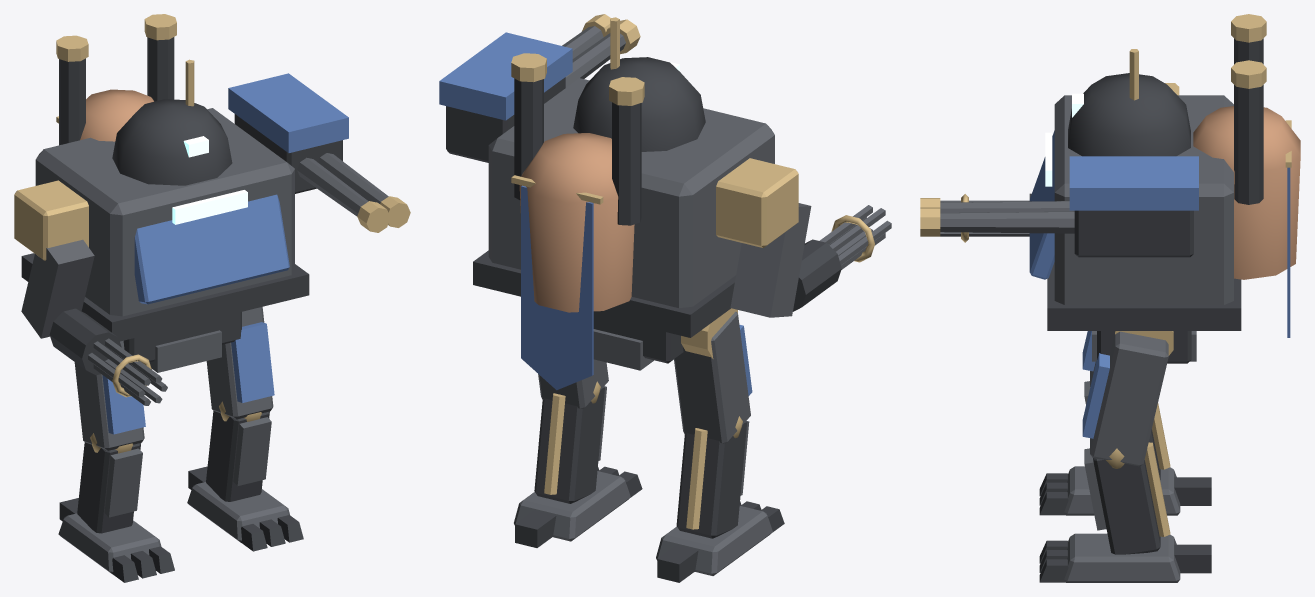
File: walker.glb
3 views of the same model, side by side, from view 1: azimuth 30°, elevation 25°; view 2: azimuth 150°, elevation 25°; view 3: azimuth 270°, elevation 25° (orthographic). The views are drawn at different scales.
Parts seen in each view (by area): view 1: torso, leg_r, shin_r, shin_l, foot_r, foot_l, leg_l, hips; view 2: torso, leg_l, shin_r, shin_l, foot_l, foot_r, hips, leg_r; view 3: torso, leg_r, foot_r, shin_r, foot_l, hips, shin_l.
Part boxes in pixels (<box>): torso: <box>14,14,410,405</box>; leg_r: <box>206,307,274,421</box>; shin_r: <box>206,411,271,501</box>; shin_l: <box>77,442,142,533</box>; foot_r: <box>187,466,303,551</box>; foot_l: <box>58,498,174,582</box>; leg_l: <box>74,340,145,453</box>; hips: <box>123,312,241,372</box>; torso: <box>439,14,891,390</box>; leg_l: <box>674,311,752,443</box>; shin_r: <box>534,386,606,503</box>; shin_l: <box>676,421,749,538</box>; foot_l: <box>656,501,784,582</box>; foot_r: <box>514,466,642,547</box>; hips: <box>593,308,737,370</box>; leg_r: <box>538,359,608,408</box>; torso: <box>920,14,1300,337</box>; leg_r: <box>1082,331,1168,468</box>; foot_r: <box>1039,533,1211,582</box>; shin_r: <box>1084,442,1170,554</box>; foot_l: <box>1039,466,1211,515</box>; hips: <box>1092,331,1196,363</box>; shin_l: <box>1084,381,1170,479</box>.
Bounding box in the file's own units: 7.1 × 10.99 × 7.64.
